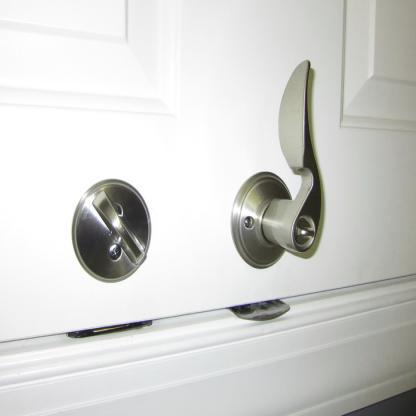door: (0, 0, 415, 347)
lever: (276, 56, 336, 261)
